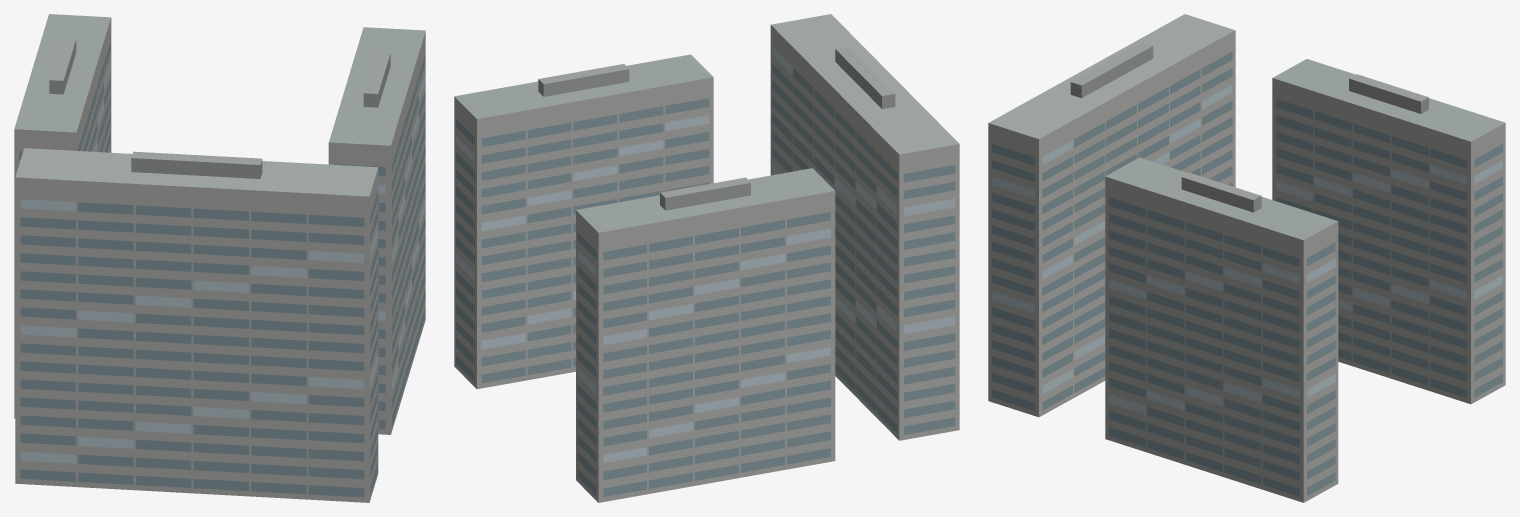
The model's file is apt-a15780701.glb.
3 renders of one model, left to right at view 1: azimuth 30°, elevation 25°; view 2: azimuth 150°, elevation 25°; view 3: azimuth 270°, elevation 25°, orthographic. The views are drawn at different scales.
Visible parts, largest first — view 1: apt-a15780701; view 2: apt-a15780701; view 3: apt-a15780701.
Boxes of the visible parts, <box> form: apt-a15780701: <box>14,14,425,502</box>; apt-a15780701: <box>454,14,959,502</box>; apt-a15780701: <box>988,14,1505,502</box>.
Size of the model in its own units: 85.51 by 55 by 88.64.
